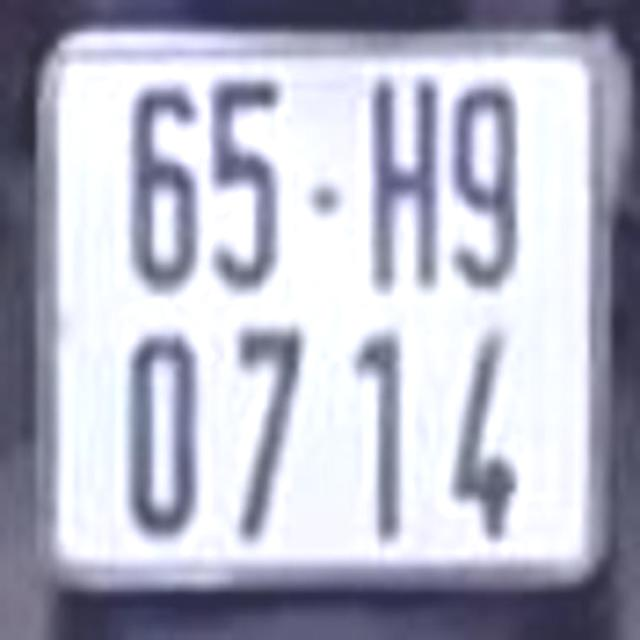0: (126, 329, 200, 536)
1: (350, 326, 410, 544)
4: (449, 327, 524, 543)
5: (209, 76, 283, 289)
6: (128, 79, 200, 289)
7: (231, 321, 303, 542)
9: (450, 80, 521, 289)
H: (368, 72, 444, 293)
